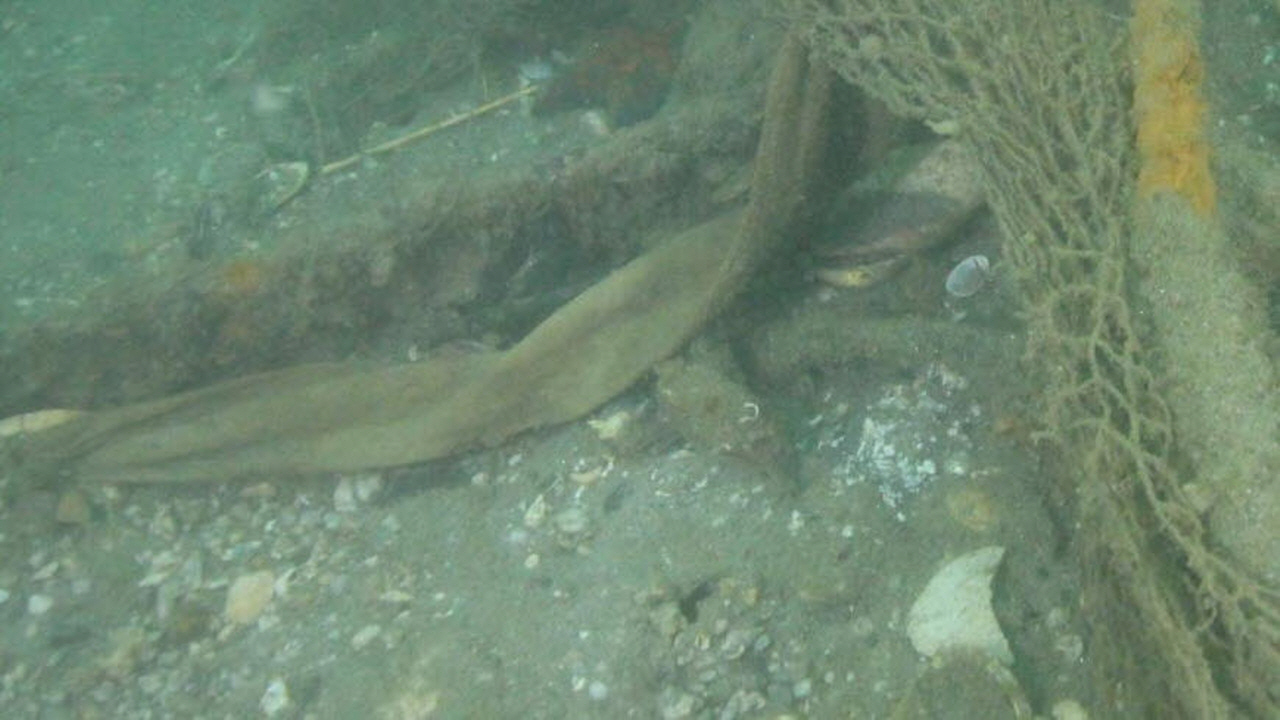fish net: (745, 0, 1280, 720)
